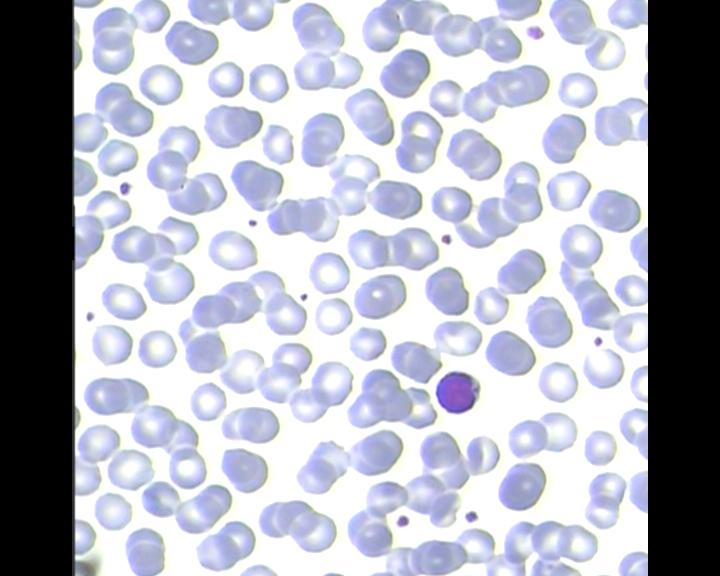lymp: (435, 368, 484, 415)
